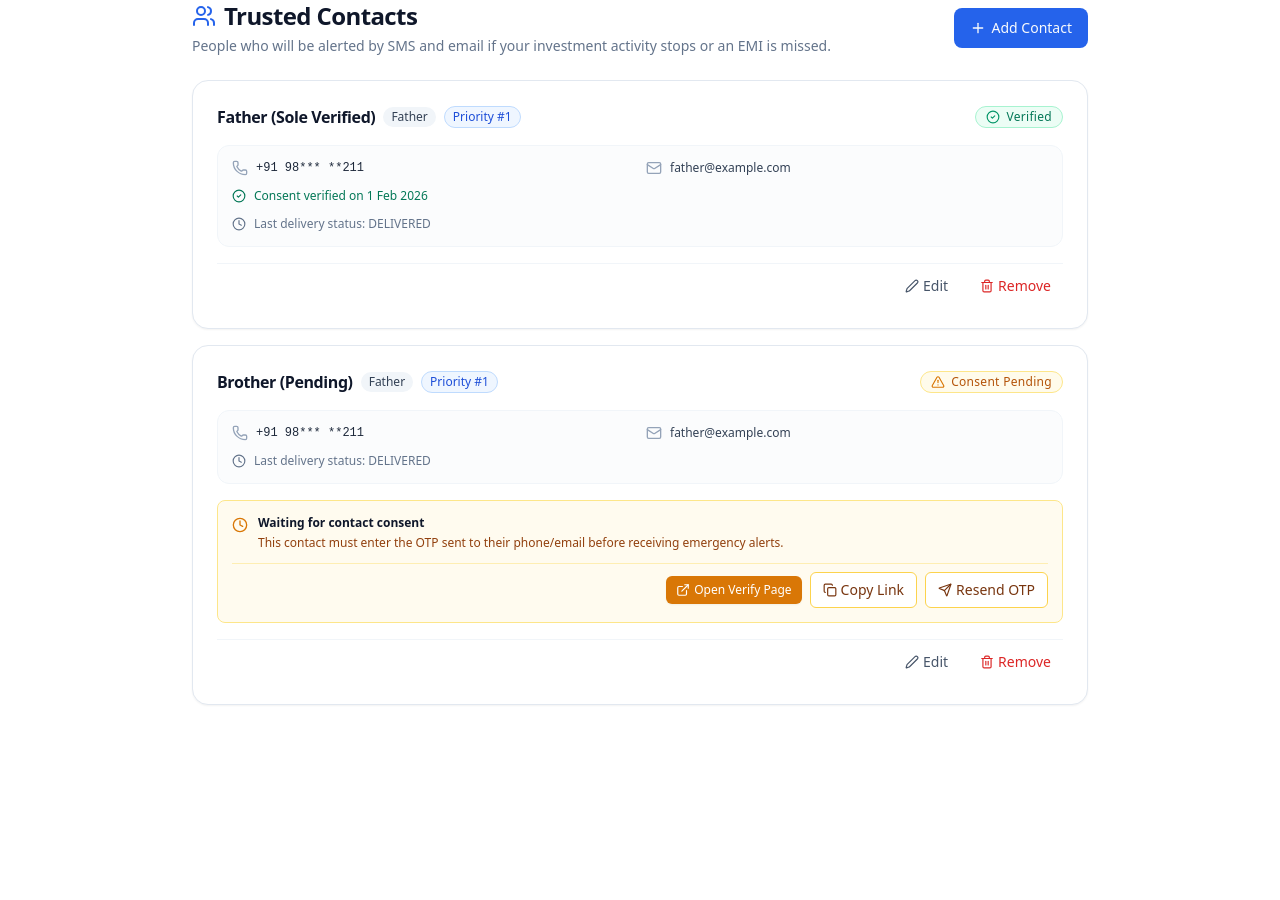
Test case: Contacts Feature (Phase 5) › displays high-urgency warning dialog when removing the LAST verified contact
This screenshot has width=1280, height=900.
Check: the heading "Father (Sole Verified)" is shown, box 217,105 -> 375,129
// Click remove on the sole verified contact
Click the 1st button "Remove".
click(1016, 286)  # box 968,268 -> 1063,304
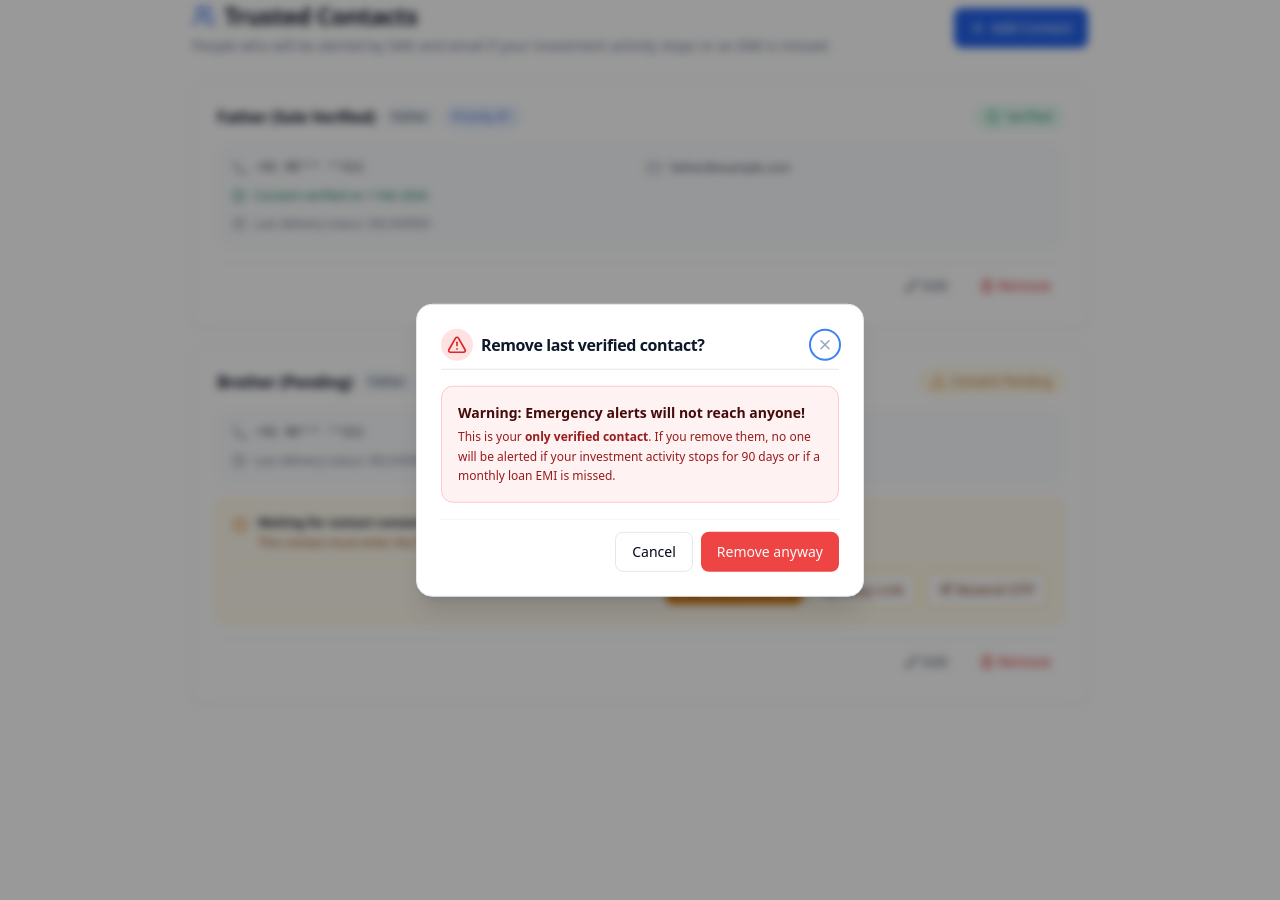
Check: the heading "Remove last verified contact?" is shown, box 481,333 -> 705,357
Check: the text "Warning: Emergency alerts will not reach anyone!" is shown, box 458,403 -> 822,423
Check: the button "Remove anyway" is shown, box 701,531 -> 839,571
